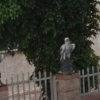Statue: (41, 14, 93, 81)
